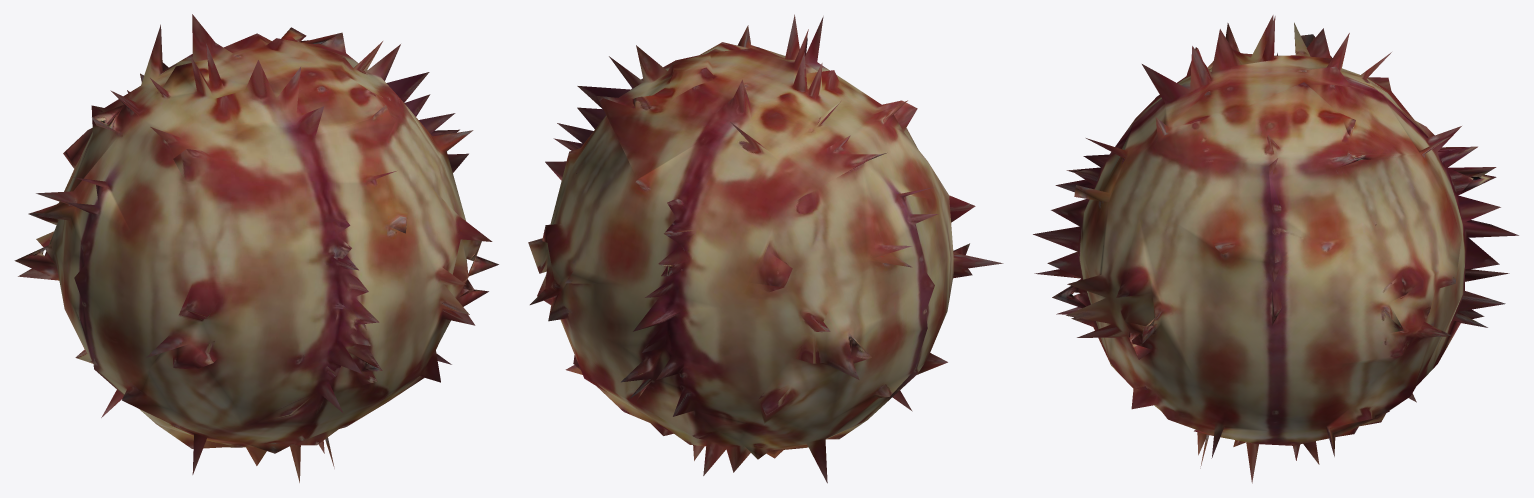
The model's file is Bacteria1.fbx.
3 renders of one model, left to right at view 1: azimuth 30°, elevation 25°; view 2: azimuth 150°, elevation 25°; view 3: azimuth 270°, elevation 25°, orthographic. The views are drawn at different scales.
Visible parts, largest first — view 1: mesh; view 2: mesh; view 3: mesh.
Boxes of the visible parts, x1,y1,x2,y2 form: mesh: (14, 14, 498, 482); mesh: (528, 14, 1003, 483); mesh: (1033, 15, 1518, 483).
Size of the model in its own units: 4.69 by 4.77 by 5.04.
